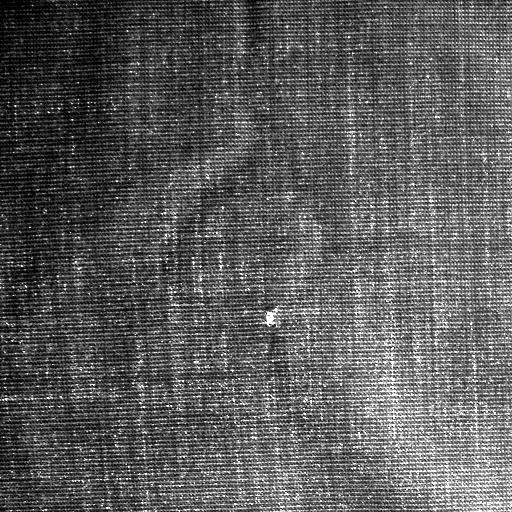fabric_hole: (244, 294, 285, 330)
